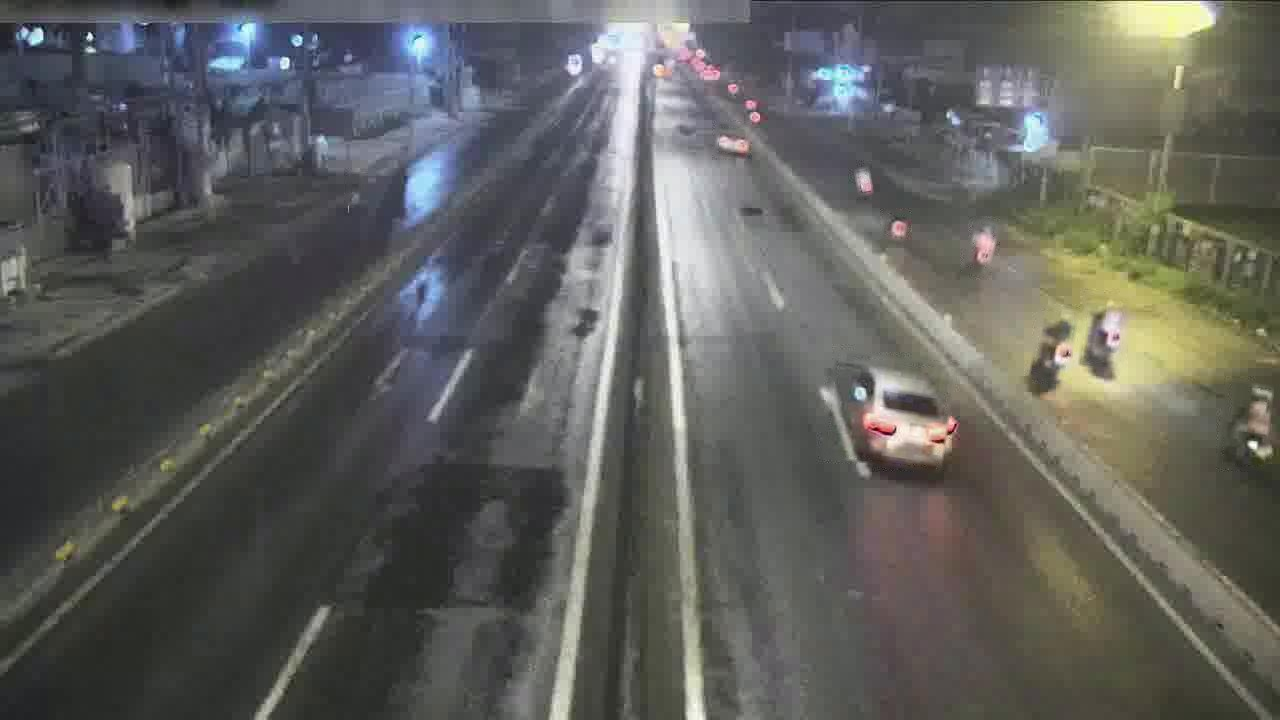Car: (837, 365, 957, 473), (716, 129, 750, 158)
Motorcyclist: (1223, 384, 1274, 466), (1081, 300, 1124, 377), (1032, 315, 1073, 384), (967, 222, 997, 271), (347, 175, 365, 213), (885, 214, 909, 242), (855, 168, 873, 196)
